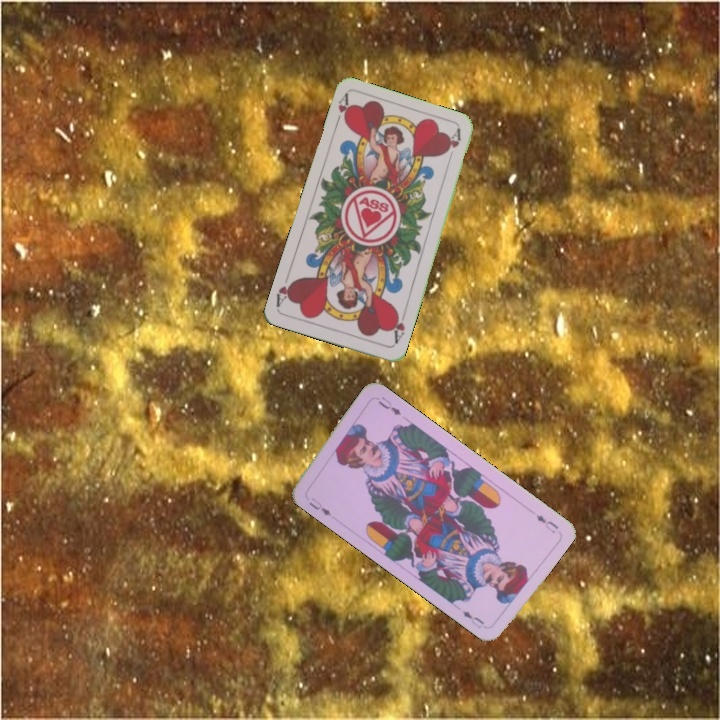EU: (532, 510, 561, 536), (304, 493, 333, 518)
HA: (331, 90, 354, 130), (388, 307, 408, 346)
